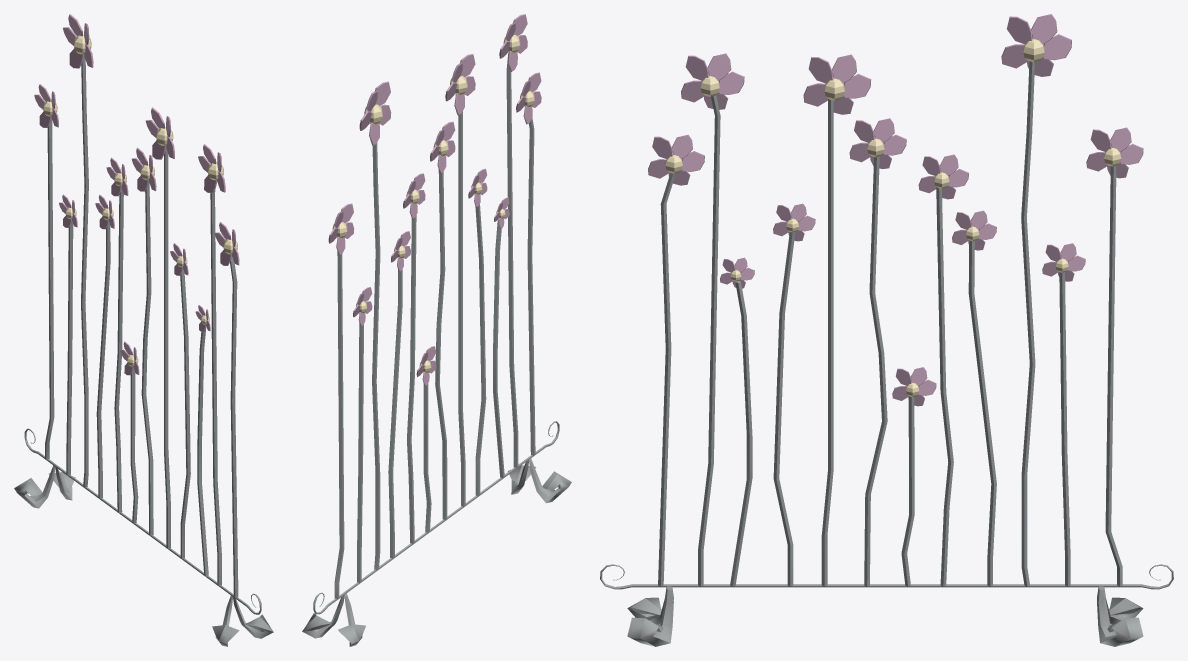
Rendered from Divier03.fbx.
The picture shows the model from 3 angles, left to right: view 1: azimuth 30°, elevation 25°; view 2: azimuth 150°, elevation 25°; view 3: azimuth 270°, elevation 25°; orthographic projection. The views are drawn at different scales.
Parts seen in each view (by area): view 1: Divier03; view 2: Divier03; view 3: Divier03.
Boxes of the visible parts, x1,y1,x2,y2 form: Divier03: [14, 14, 273, 646]; Divier03: [302, 14, 571, 646]; Divier03: [600, 14, 1173, 646].
Size of the model in its own units: 1.22 by 11.4 by 9.57.
